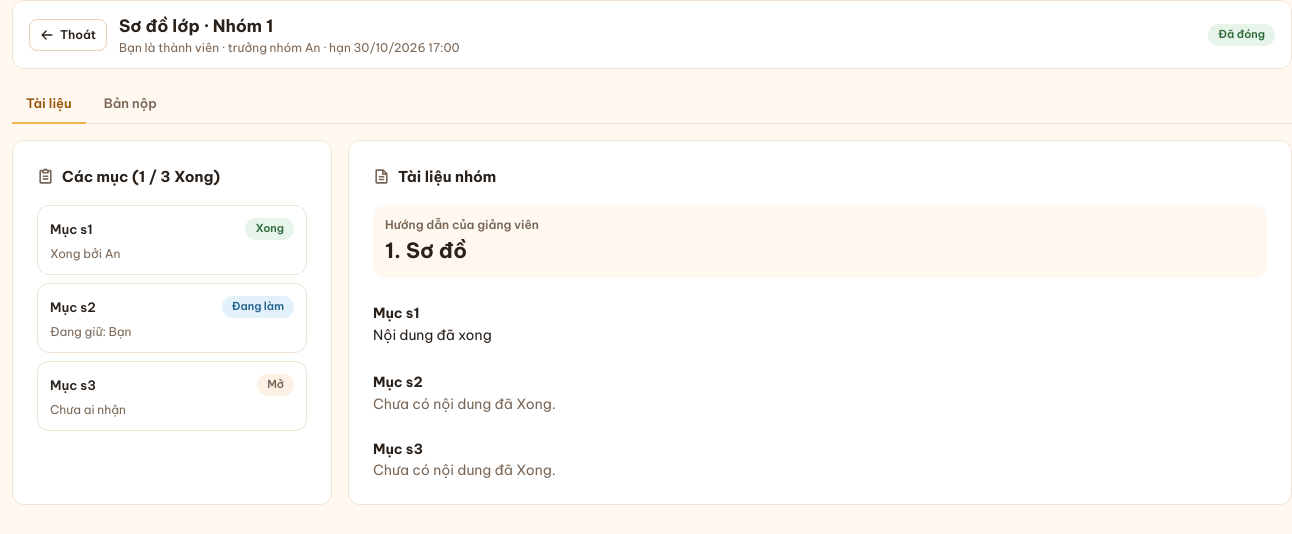
Scenario: GroupWorkspacePage › thẻ Bản nộp hiện biên nhận và cách nộp
The image size is (1292, 534).
Click the tab "Bản nộp" at (130, 105), box [90,85,171,124]
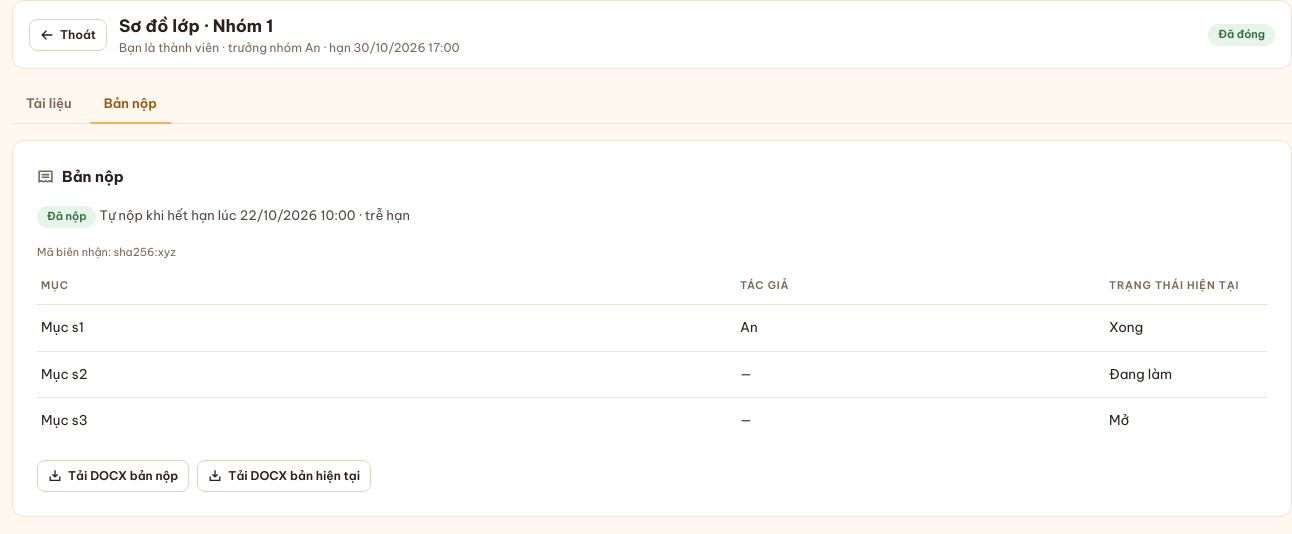
Now the text "Đã nộp Tự nộp khi hết hạn lúc 22/10/2026 10:00 · trễ hạn" is shown, box [37,206,410,228]
Now the text "Mã biên nhận: sha256:xyz" is shown, box [37,245,176,259]
